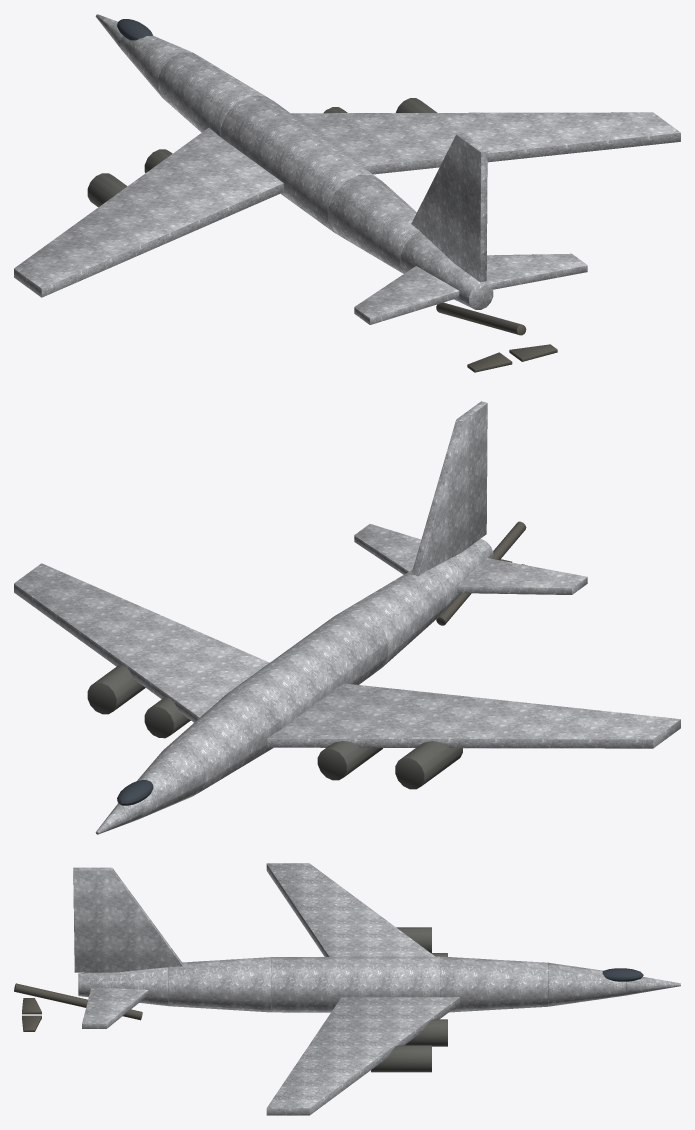
The model's file is tkr_e2_us_tanker_LOD0.glb.
The picture shows the model from 3 angles, top to bottom: view 1: azimuth 30°, elevation 25°; view 2: azimuth 150°, elevation 25°; view 3: azimuth 270°, elevation 25°; orthographic projection. The views are drawn at different scales.
Parts seen in each view (by area): view 1: tkr_e2_us_tanker_LOD0_body, tkr_e2_us_tanker_LOD0_deck, tkr_e2_us_tanker_LOD0_gun; view 2: tkr_e2_us_tanker_LOD0_body, tkr_e2_us_tanker_LOD0_gun, tkr_e2_us_tanker_LOD0_deck, tkr_e2_us_tanker_LOD0_glass; view 3: tkr_e2_us_tanker_LOD0_body, tkr_e2_us_tanker_LOD0_gun, tkr_e2_us_tanker_LOD0_deck, tkr_e2_us_tanker_LOD0_glass.
Part boxes in pixels (box(x1,y1,x2,y2)): tkr_e2_us_tanker_LOD0_body: box(14, 14, 680, 324); tkr_e2_us_tanker_LOD0_deck: box(436, 302, 557, 372); tkr_e2_us_tanker_LOD0_gun: box(87, 98, 437, 207); tkr_e2_us_tanker_LOD0_body: box(14, 401, 680, 834); tkr_e2_us_tanker_LOD0_gun: box(87, 664, 462, 789); tkr_e2_us_tanker_LOD0_deck: box(436, 521, 527, 625); tkr_e2_us_tanker_LOD0_glass: box(117, 780, 153, 805); tkr_e2_us_tanker_LOD0_body: box(73, 863, 680, 1115); tkr_e2_us_tanker_LOD0_gun: box(371, 927, 447, 1072); tkr_e2_us_tanker_LOD0_deck: box(14, 983, 142, 1031); tkr_e2_us_tanker_LOD0_glass: box(602, 968, 643, 981).
Bounding box in the file's own units: 39.9 × 11.47 × 45.93.
4 materials, 1 textured.
